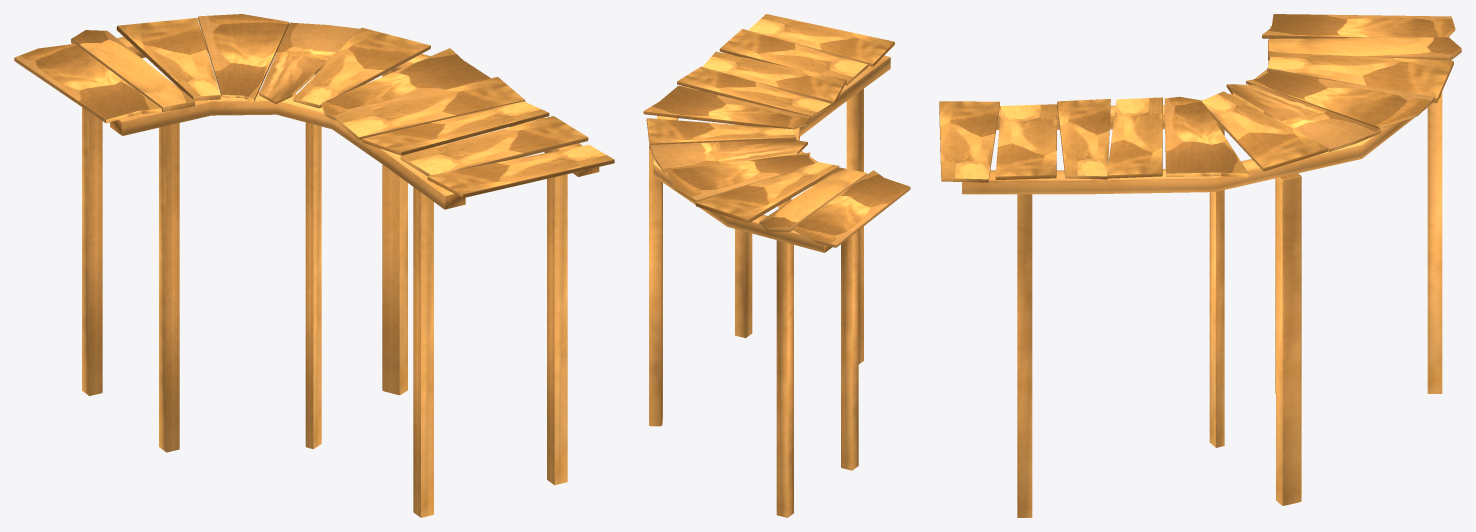
File: SM_Dock_Curved.fbx
3 views of the same model, side by side, from view 1: azimuth 30°, elevation 25°; view 2: azimuth 150°, elevation 25°; view 3: azimuth 270°, elevation 25° (orthographic). The views are drawn at different scales.
Visible parts, largest first — view 1: SM_Dock_Curved_LOD0; view 2: SM_Dock_Curved_LOD0; view 3: SM_Dock_Curved_LOD0.
Part boxes in pixels (<box>): SM_Dock_Curved_LOD0: <box>14,14,614,517</box>; SM_Dock_Curved_LOD0: <box>643,14,910,517</box>; SM_Dock_Curved_LOD0: <box>939,14,1461,517</box>.
Bounding box in the file's own units: 470 × 627 × 461.
